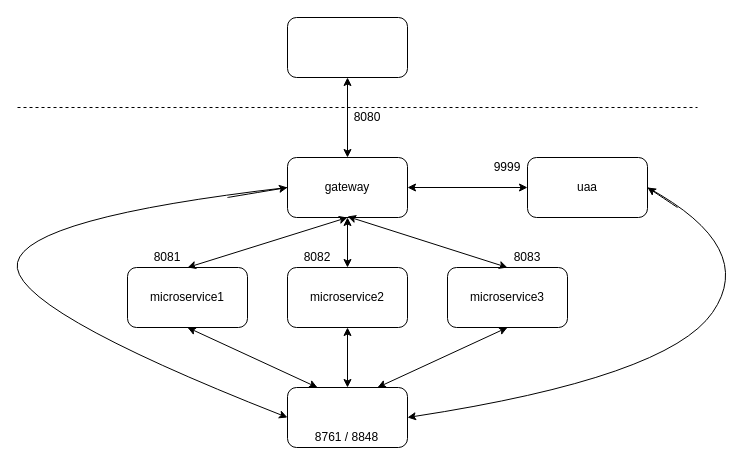
The diagram is 744 pixels wide and 465 high, and some of its shapes have lost their labels. Each missing label, with the box of its shape:
eureka / nacos: (286, 386, 408, 448)
浏览器: (286, 16, 408, 78)
